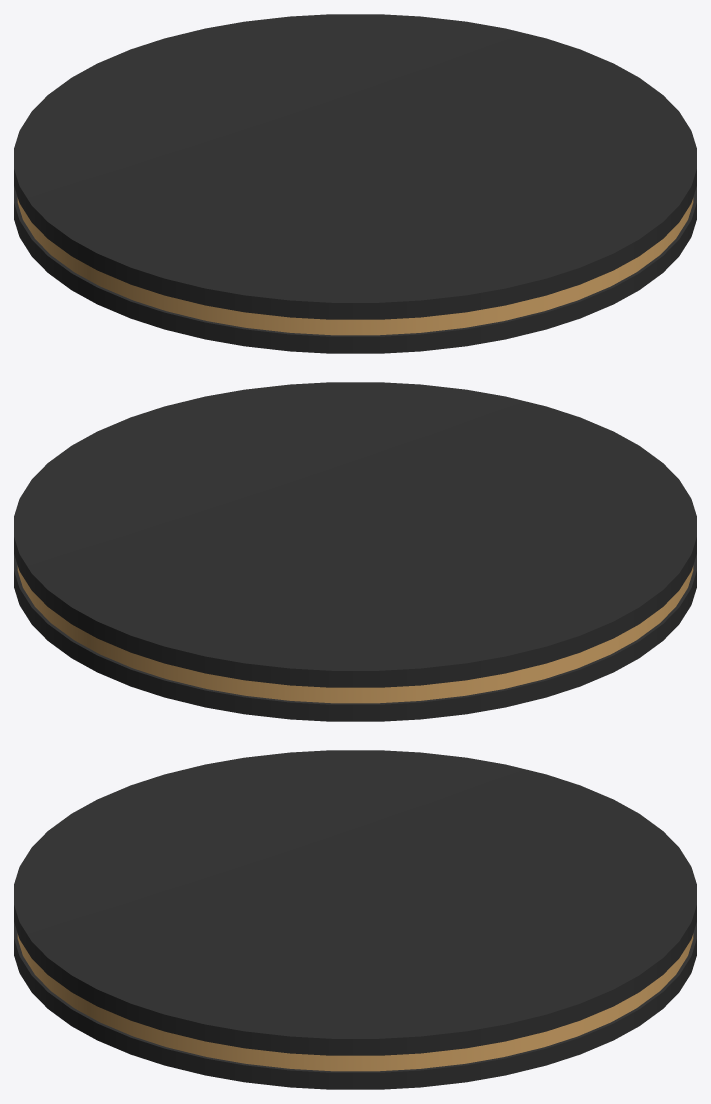
File: LightCeiling3.fbx
3 views of the same model, one above another, from view 1: azimuth 30°, elevation 25°; view 2: azimuth 150°, elevation 25°; view 3: azimuth 270°, elevation 25° (orthographic).
Parts seen in each view (by area): view 1: LightCeiling3; view 2: LightCeiling3; view 3: LightCeiling3.
Boxes of the visible parts, box(x1,y1,x2,y2) form: LightCeiling3: box(14, 14, 696, 353); LightCeiling3: box(14, 382, 696, 721); LightCeiling3: box(14, 750, 696, 1089).
Bounding box in the file's own units: 124 × 10.22 × 124.
